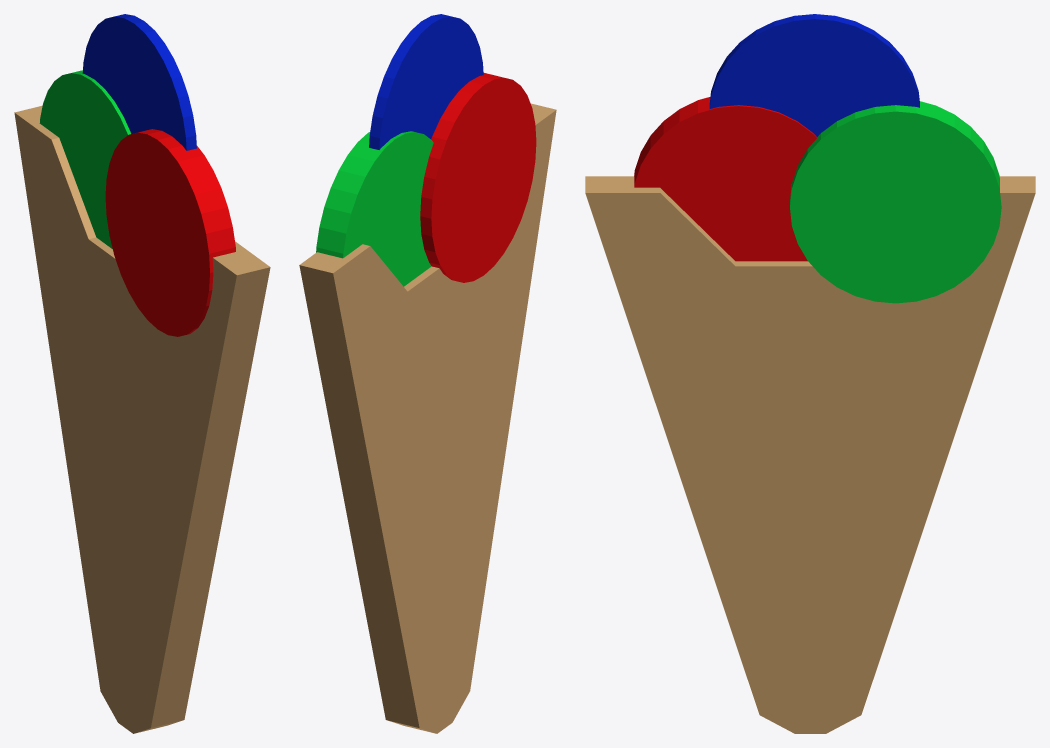
Rendered from EisIcon.fbx.
3 renders of one model, left to right at view 1: azimuth 30°, elevation 25°; view 2: azimuth 150°, elevation 25°; view 3: azimuth 270°, elevation 25°, orthographic.
Visible parts, largest first — view 1: Cube, Cylinder, Cylinder.002, Cylinder.001; view 2: Cube, Cylinder, Cylinder.001, Cylinder.002; view 3: Cube, Cylinder.001, Cylinder, Cylinder.002.
Part boxes in pixels (x1,y1,x2,y2): Cube: (14, 105, 270, 733); Cylinder: (105, 129, 235, 336); Cylinder.002: (82, 14, 196, 150); Cylinder.001: (39, 70, 131, 248); Cube: (299, 103, 556, 733); Cylinder: (420, 73, 536, 282); Cylinder.001: (316, 131, 433, 286); Cylinder.002: (369, 14, 483, 149); Cube: (585, 176, 1035, 733); Cylinder.001: (790, 101, 1001, 303); Cylinder: (634, 97, 817, 261); Cylinder.002: (709, 14, 919, 136).
Size of the model in its own units: 41.87 by 739 by 426.
